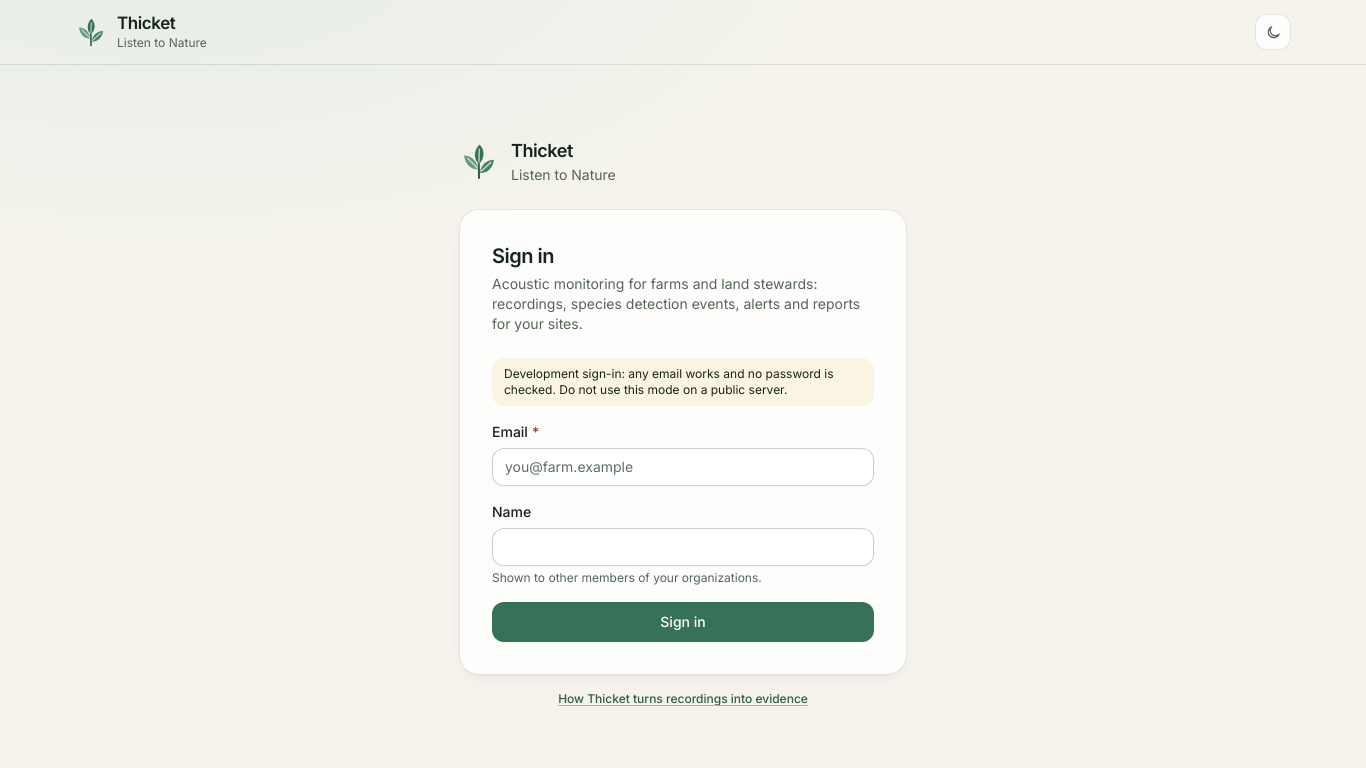
Test: sign-in flows › validates the dev email before posting
expect the heading "Sign in" is shown: met, box 492,244 -> 554,268
Type "not-an-email" into the field labelled "Email*" at (683,467), box 492,448 -> 874,486
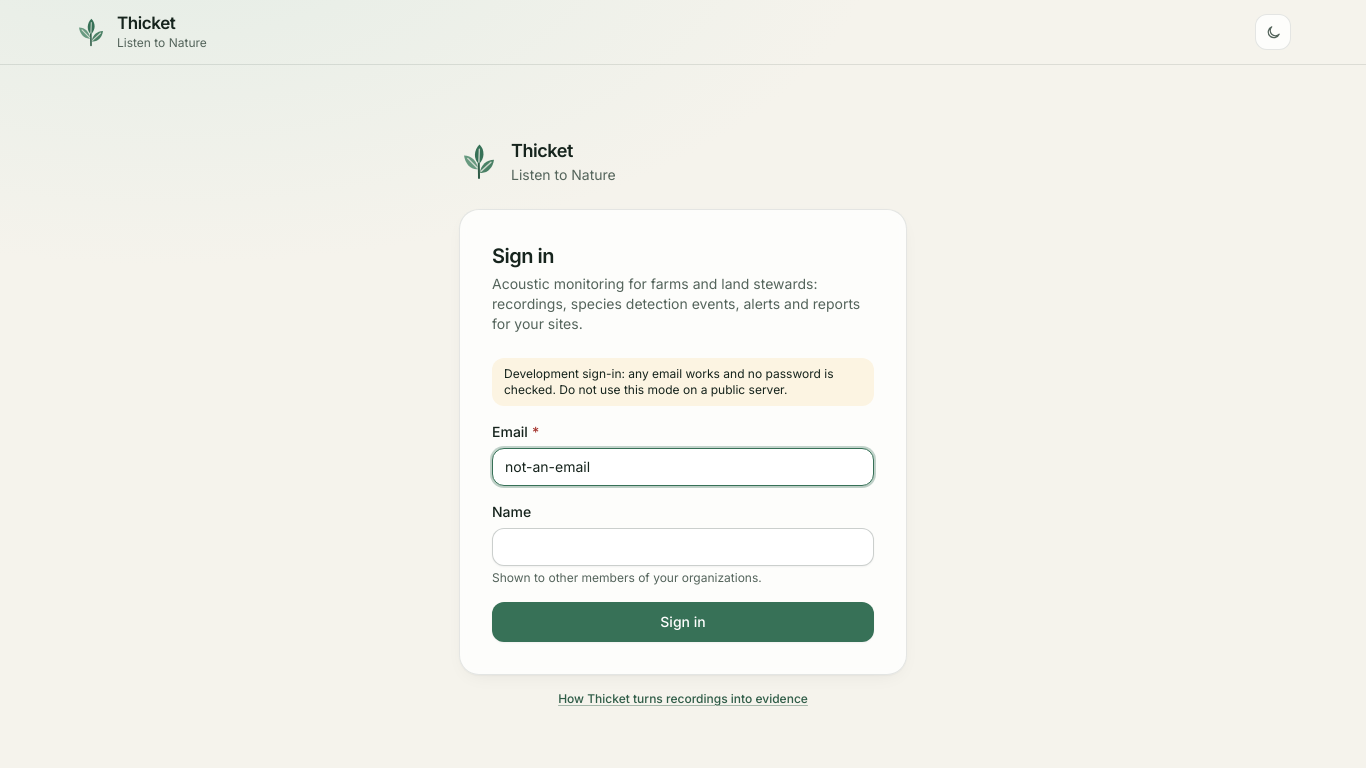
Click the button "Sign in" at (683,622), box 492,602 -> 874,642
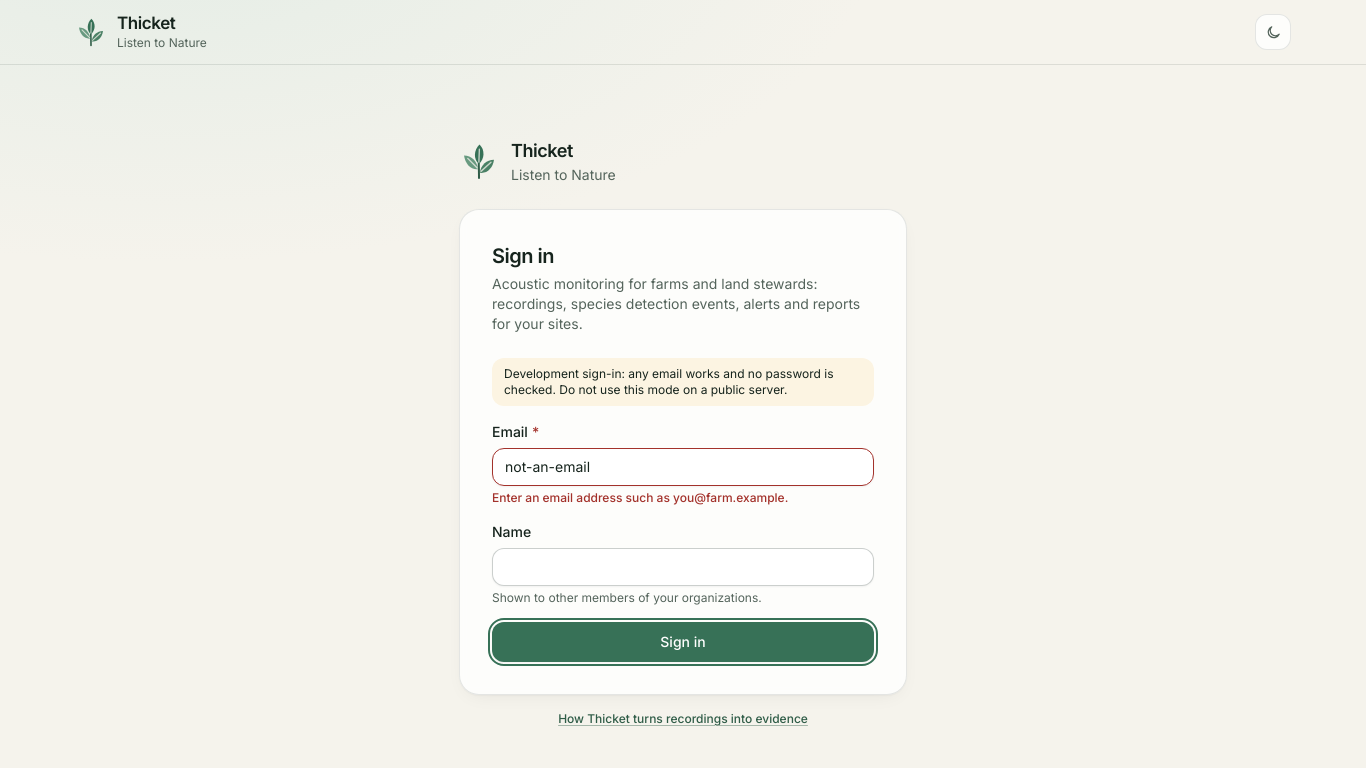
expect the text "Enter an email address such as you@farm.example." is shown: met, box 492,490 -> 788,505
